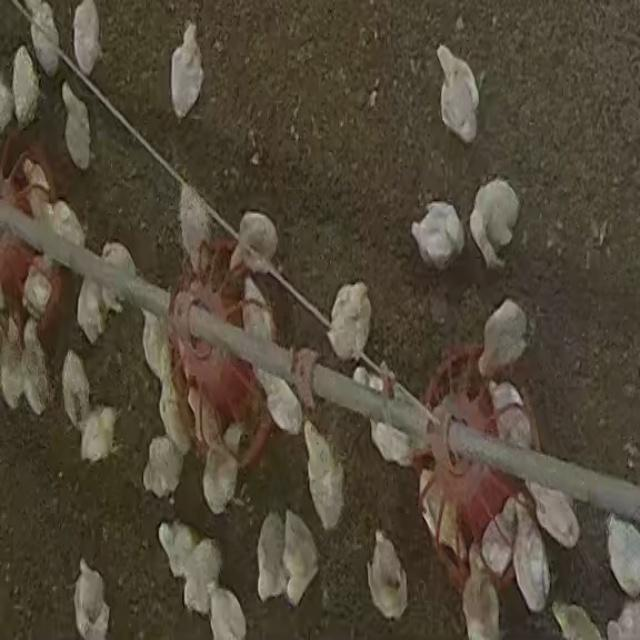chicken: (364, 371, 416, 468), (470, 175, 521, 272), (302, 421, 344, 533), (416, 470, 466, 557), (437, 42, 480, 143), (325, 280, 375, 362), (365, 530, 409, 623), (170, 18, 208, 122), (478, 300, 528, 379), (412, 200, 463, 275), (227, 210, 282, 277), (526, 482, 578, 550), (514, 504, 548, 607), (282, 510, 318, 606), (460, 551, 499, 638), (181, 536, 222, 618), (486, 379, 531, 450), (16, 316, 48, 414), (73, 557, 112, 637), (157, 518, 202, 586), (255, 511, 288, 603), (178, 181, 214, 263), (258, 368, 302, 435), (605, 515, 640, 599), (1, 312, 30, 412), (152, 372, 188, 451), (61, 79, 92, 170), (143, 435, 183, 501), (29, 1, 61, 79), (62, 348, 92, 431), (202, 447, 238, 516), (78, 406, 120, 465), (72, 274, 106, 342), (72, 0, 103, 74), (12, 44, 40, 124), (186, 383, 221, 447), (205, 585, 247, 637), (550, 602, 606, 640), (241, 276, 272, 343), (48, 200, 88, 248), (22, 264, 54, 318), (24, 156, 50, 222)
